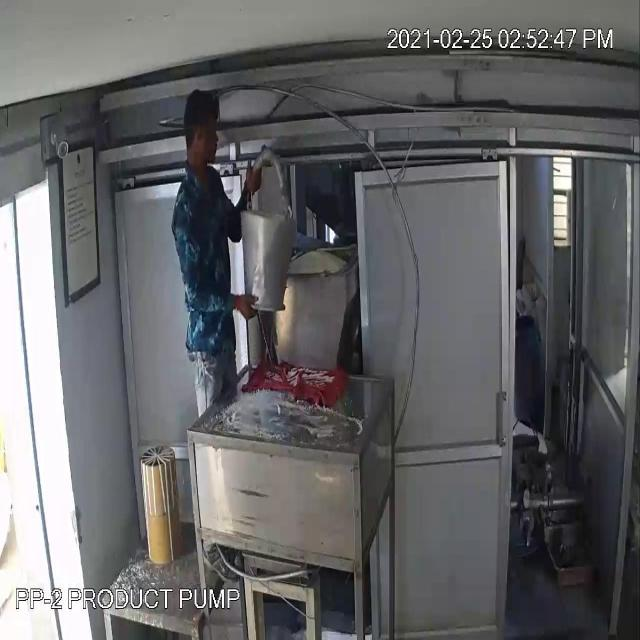no-helmet: (180, 90, 226, 146)
